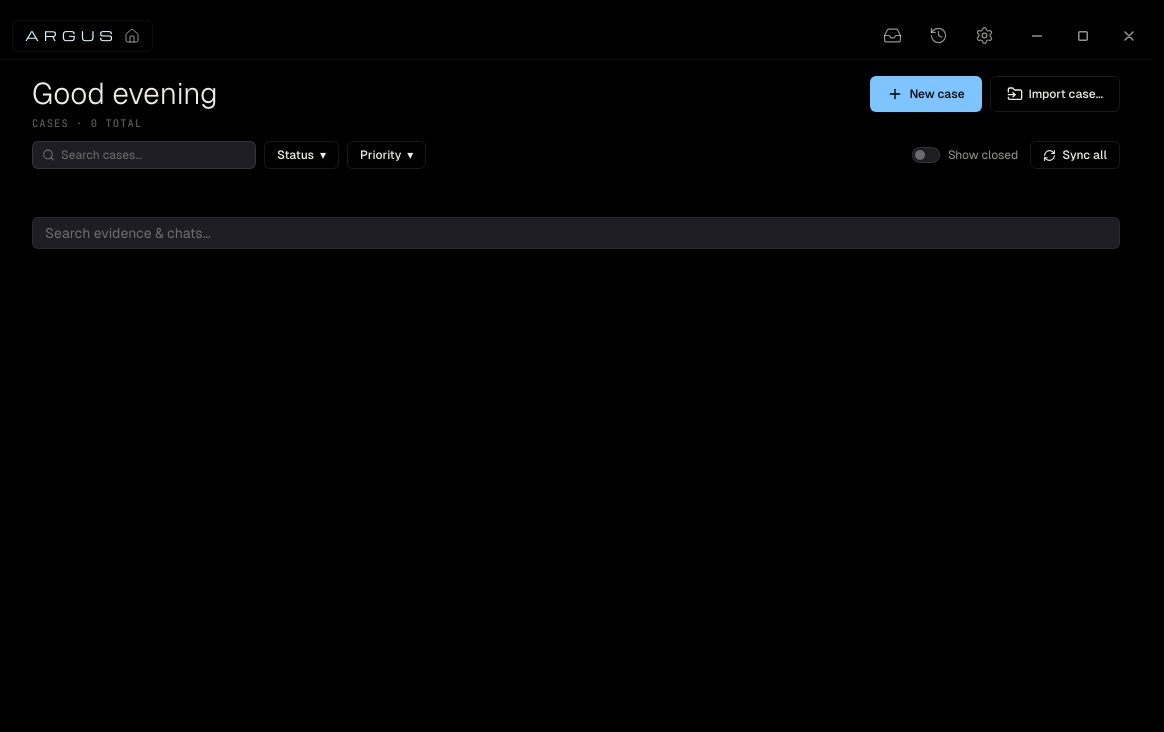
Test: App: proposals view › opens the proposals view from the TopBar and toggles shut on second click
Click the button named "Proposals". click: point(892, 36)
box: [872,16,912,56]
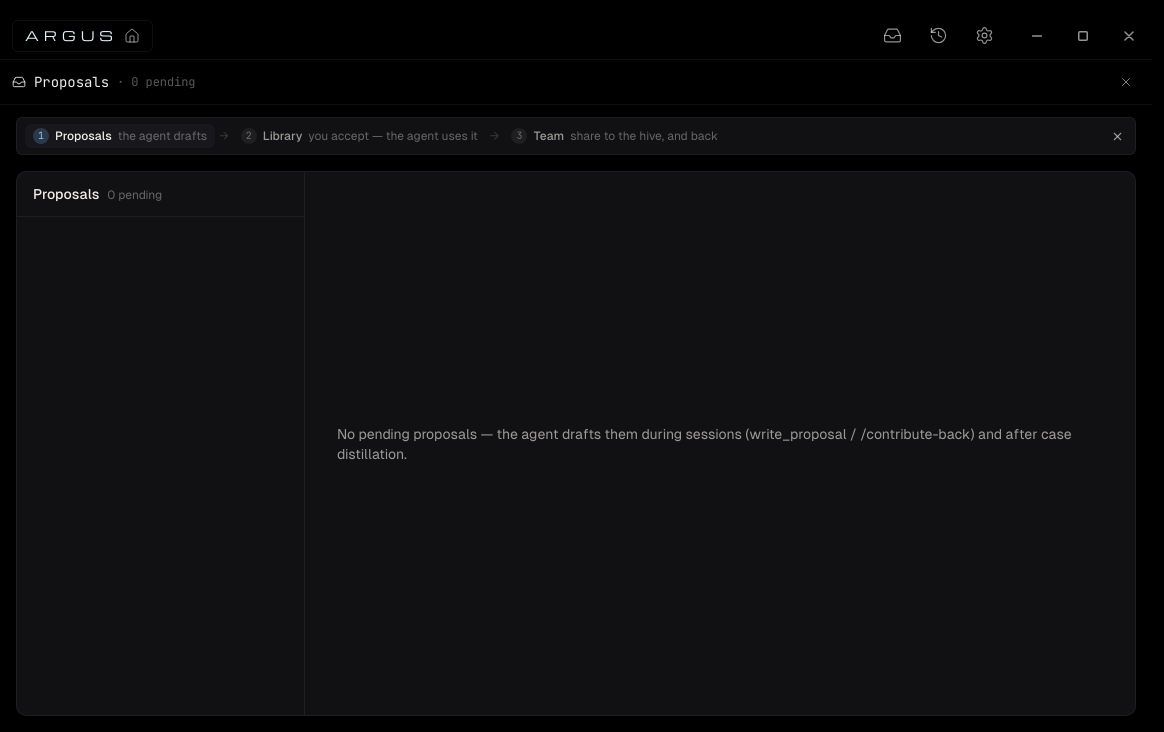
Expected: the text "· 0 pending" is shown, [117,74,196,90]
Click the button named "Proposals". click: point(892, 36)
box: [872,16,912,56]
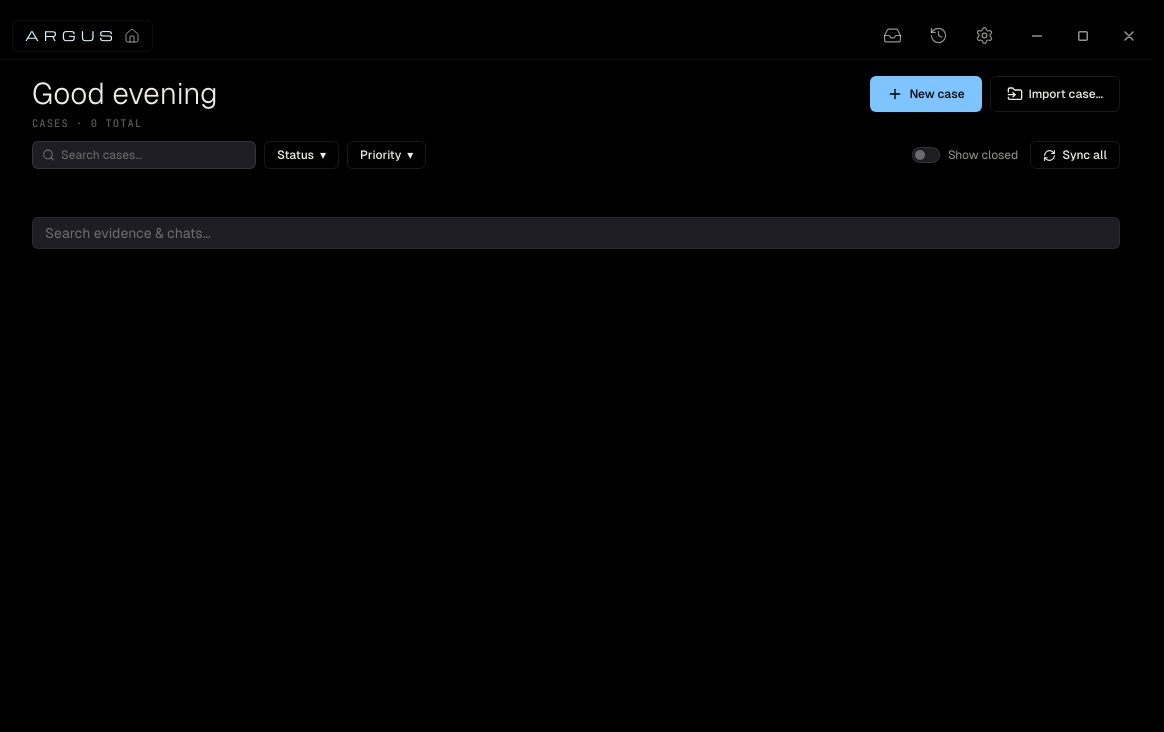
Expected: the text "· 0 pending" is gone
